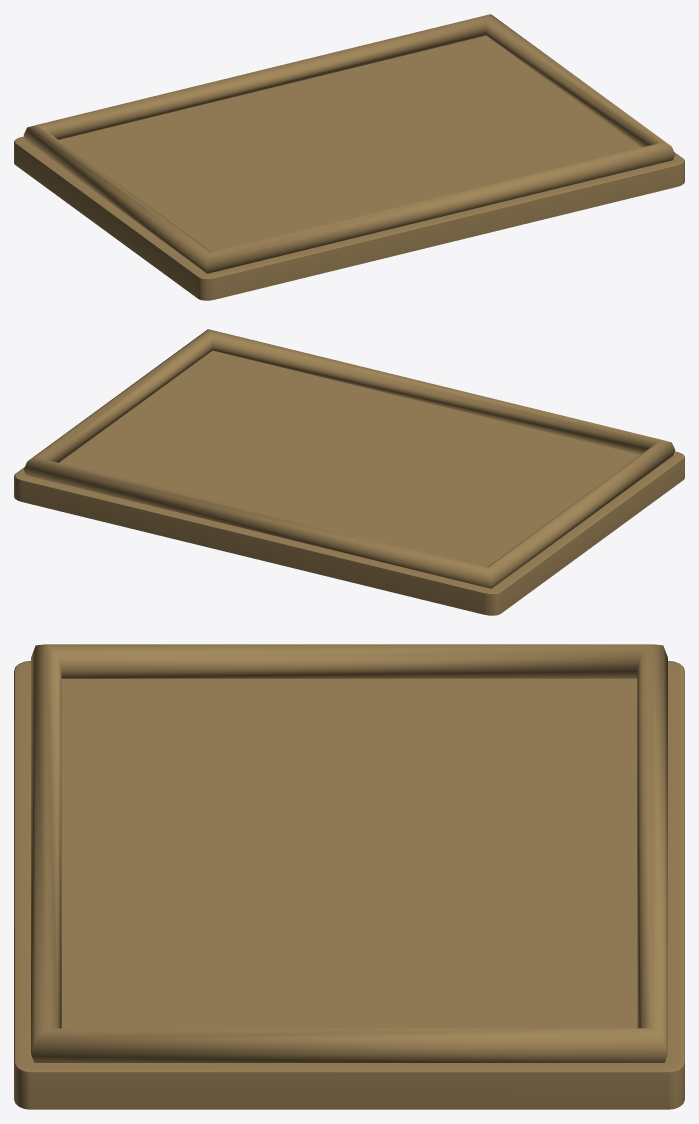
The model's file is Serving_Tray.fbx.
3 renders of one model, top to bottom at view 1: azimuth 30°, elevation 25°; view 2: azimuth 150°, elevation 25°; view 3: azimuth 270°, elevation 25°, orthographic. The views are drawn at different scales.
Visible parts, largest first — view 1: Tray base.001, Raised tray rim.001; view 2: Tray base.001, Raised tray rim.001; view 3: Tray base.001, Raised tray rim.001.
Part boxes in pixels (<box>): Tray base.001: <box>14,35,684,300</box>; Raised tray rim.001: <box>23,14,675,273</box>; Tray base.001: <box>14,350,684,615</box>; Raised tray rim.001: <box>23,329,675,588</box>; Tray base.001: <box>14,661,684,1109</box>; Raised tray rim.001: <box>31,644,667,1062</box>.
Size of the model in its own units: 0.45 by 0.035 by 0.31.
